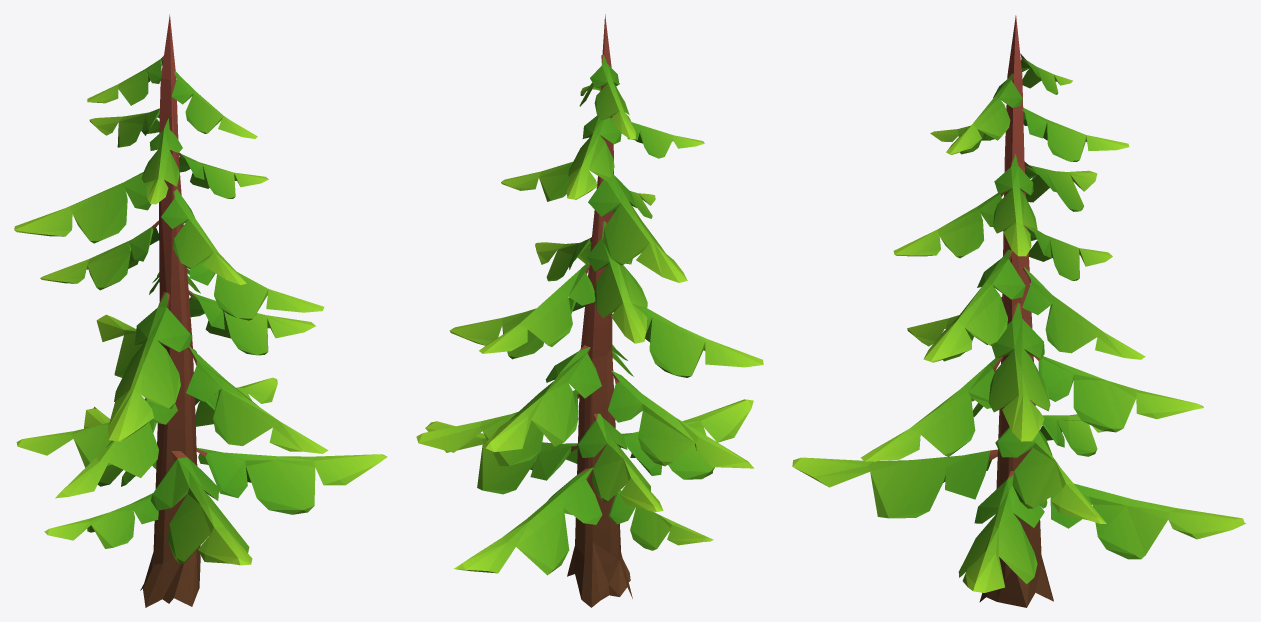
3 renders of one model, left to right at view 1: azimuth 30°, elevation 25°; view 2: azimuth 150°, elevation 25°; view 3: azimuth 270°, elevation 25°, orthographic.
Visible parts, largest first — view 1: Conifer1_Low; view 2: Conifer1_Low; view 3: Conifer1_Low.
Part boxes in pixels (box(x1,y1,x2,y2)): Conifer1_Low: box(14, 14, 387, 607); Conifer1_Low: box(416, 14, 763, 607); Conifer1_Low: box(792, 15, 1246, 607).
Bounding box in the file's own units: 295 × 500 × 348.
1 material, 1 textured.
